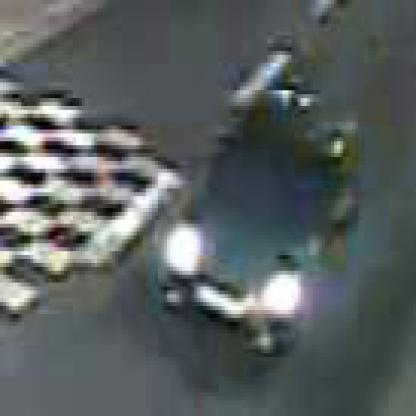car: (159, 91, 362, 362)
